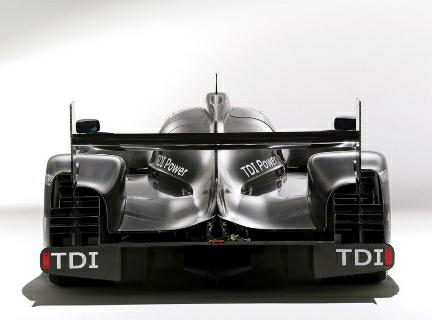奥迪-R18: (38, 71, 399, 293)
